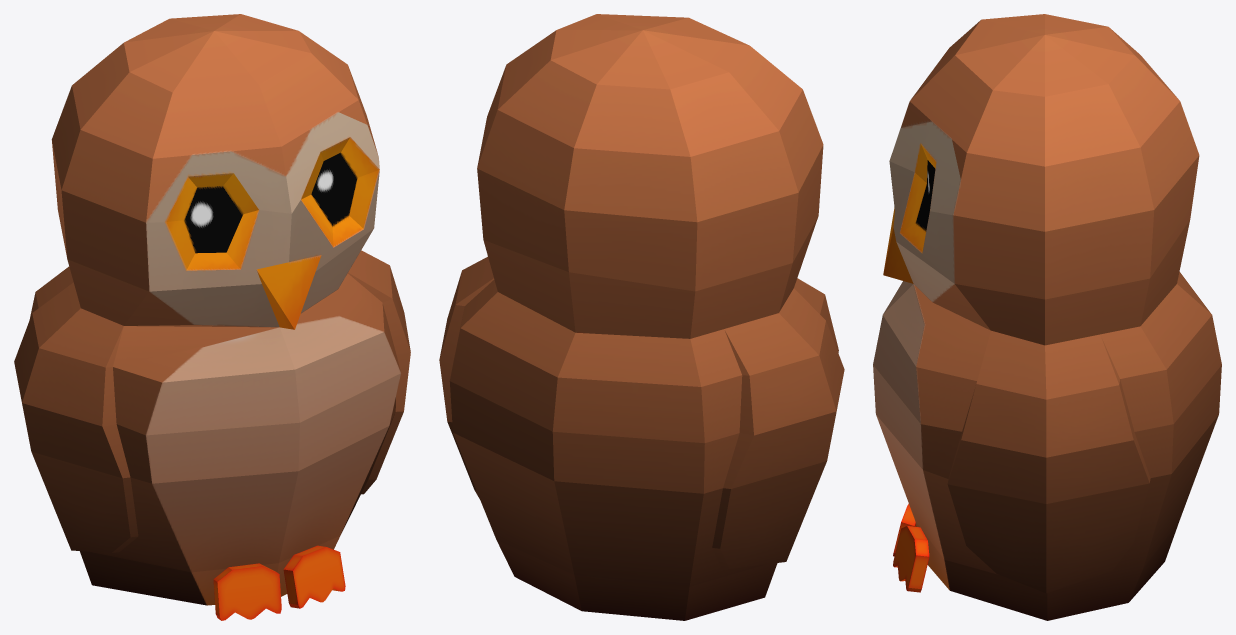
Rendered from Final_Owl_FBX.fbx.
The picture shows the model from 3 angles, left to right: view 1: azimuth 30°, elevation 25°; view 2: azimuth 150°, elevation 25°; view 3: azimuth 270°, elevation 25°; orthographic projection. The views are drawn at different scales.
Visible parts, largest first — view 1: lowerbody, head, Cube; view 2: lowerbody, head; view 3: lowerbody, head, Cube.
Boxes of the visible parts, x1,y1,x2,y2 form: lowerbody: (14, 250, 410, 605); head: (51, 14, 379, 329); Cube: (213, 545, 345, 620); lowerbody: (439, 256, 844, 620); head: (477, 14, 823, 338); lowerbody: (873, 271, 1221, 620); head: (883, 14, 1199, 345); Cube: (893, 503, 929, 592).
Bounding box in the file's own units: 208 × 275 × 165.
